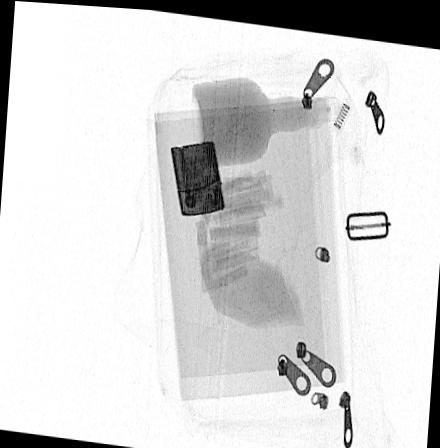Lighter: (171, 136, 226, 212)
